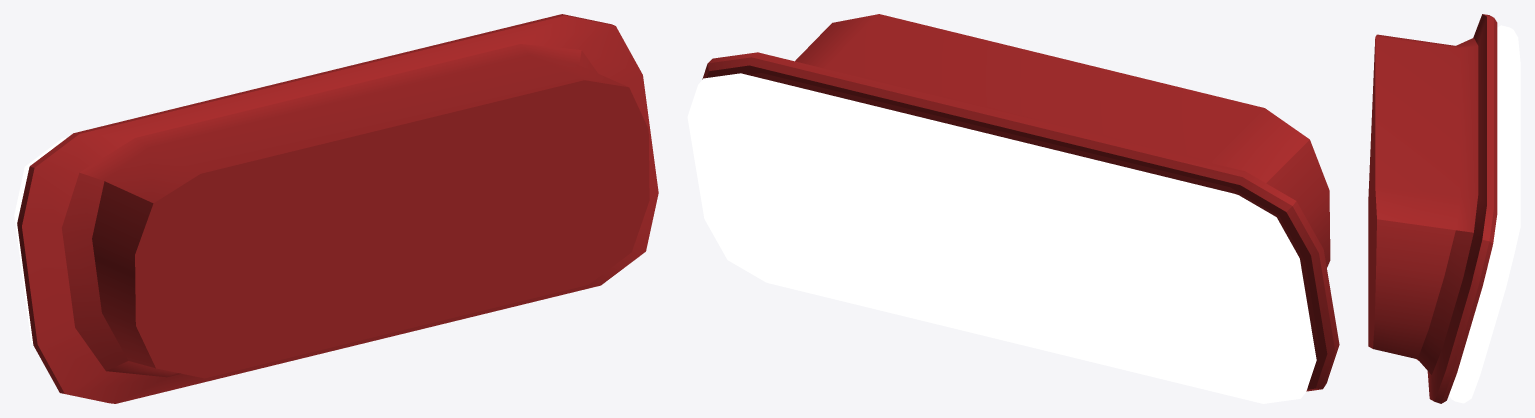
Rendered from alarm_lamp_final.gltf.
3 views of the same model, side by side, from view 1: azimuth 30°, elevation 25°; view 2: azimuth 150°, elevation 25°; view 3: azimuth 270°, elevation 25° (orthographic). The views are drawn at different scales.
Visible parts, largest first — view 1: Assets:polySurface14_MTRLampadaBranca_0; view 2: Assets:polySurface14_MTRLampadaBranca_0; view 3: Assets:polySurface14_MTRLampadaBranca_0.
Boxes of the visible parts, x1,y1,x2,y2 form: Assets:polySurface14_MTRLampadaBranca_0: [14, 14, 658, 403]; Assets:polySurface14_MTRLampadaBranca_0: [687, 14, 1339, 403]; Assets:polySurface14_MTRLampadaBranca_0: [1368, 14, 1520, 403].
Size of the model in its own units: 2.05 by 0.7764 by 0.5469.
